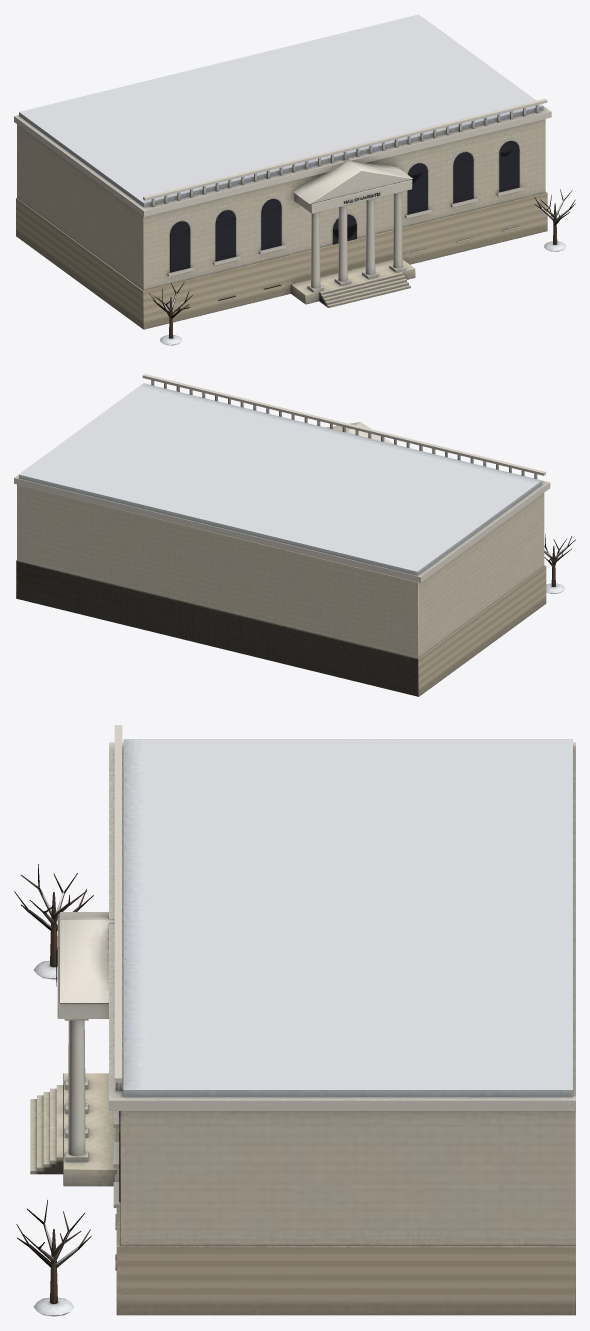
Rendered from world_food.glb.
3 views of the same model, one above another, from view 1: azimuth 30°, elevation 25°; view 2: azimuth 150°, elevation 25°; view 3: azimuth 270°, elevation 25° (orthographic). The views are drawn at different scales.
Parts seen in each view (by area): view 1: world_food; view 2: world_food; view 3: world_food.
Part boxes in pixels (x1,y1,x2,y2): world_food: [14, 14, 575, 345]; world_food: [14, 374, 575, 696]; world_food: [14, 725, 575, 1316].
Size of the model in its own units: 46.11 by 14.02 by 29.6.
Materials: 1 (1 with a texture image).
